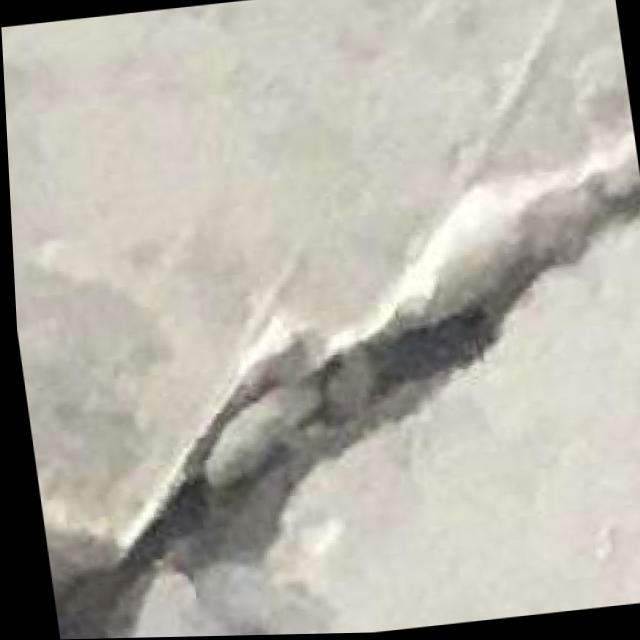Crack: (4, 85, 640, 640)
